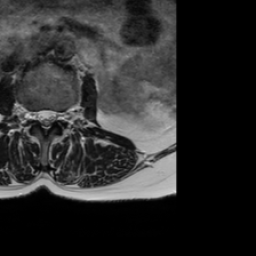CCS_normal: (41, 100, 49, 140)
LFS_normal: (57, 100, 65, 129)
LLS_normal: (49, 100, 57, 131)
RFS_normal: (27, 100, 34, 129)
RLS_normal: (34, 101, 41, 131)
